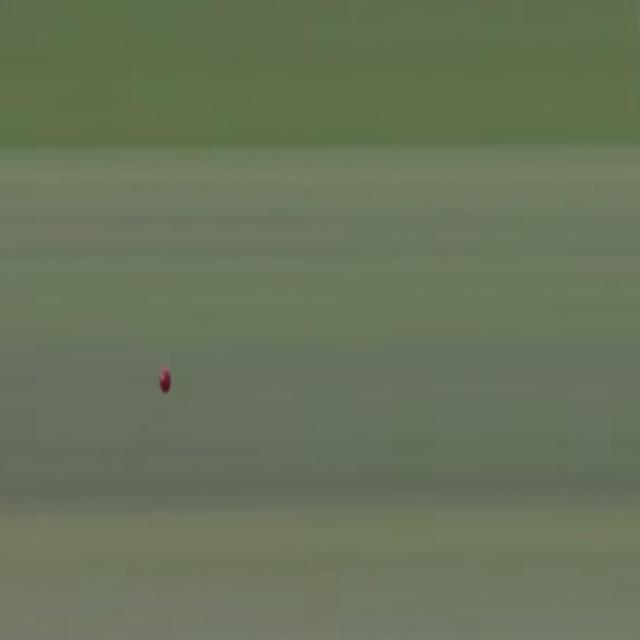ball: (157, 367, 173, 394)
